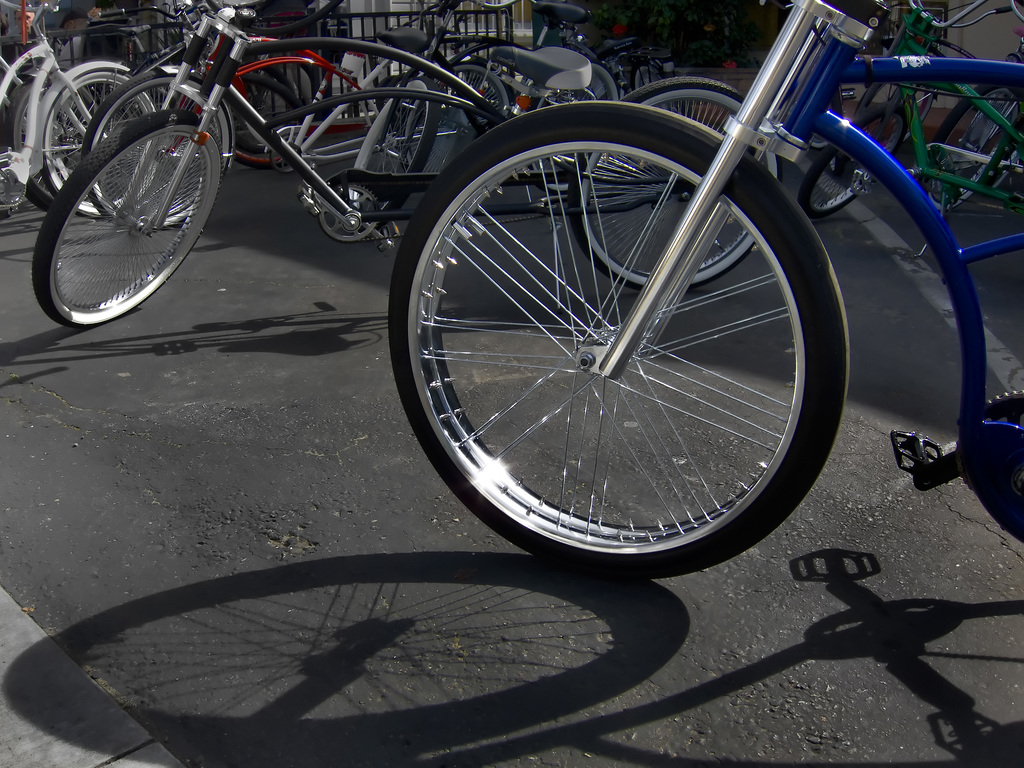Bicycle: (373, 0, 1023, 576), (20, 37, 787, 324), (556, 0, 1023, 290), (81, 0, 488, 246), (339, 0, 675, 232), (779, 0, 1023, 206), (0, 0, 172, 205), (858, 0, 1020, 204), (0, 39, 138, 229)
